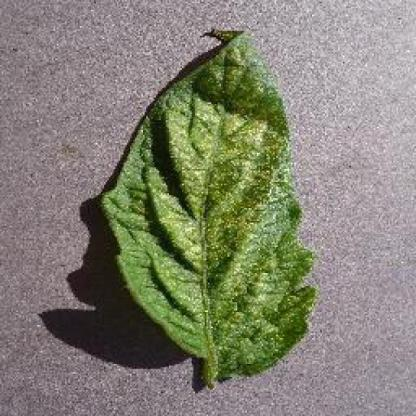Tomato_Spider_Mites: (100, 29, 316, 376)
